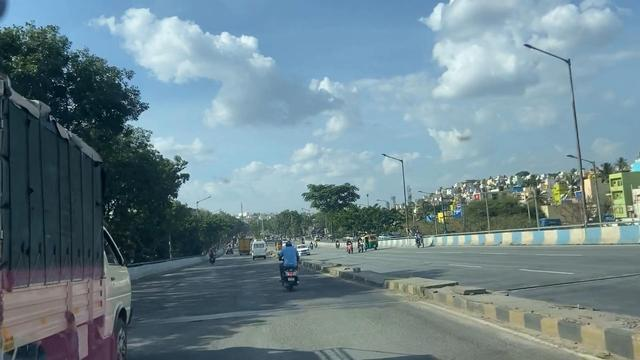HMV: (1, 78, 133, 360)
LMV: (276, 237, 303, 292)
